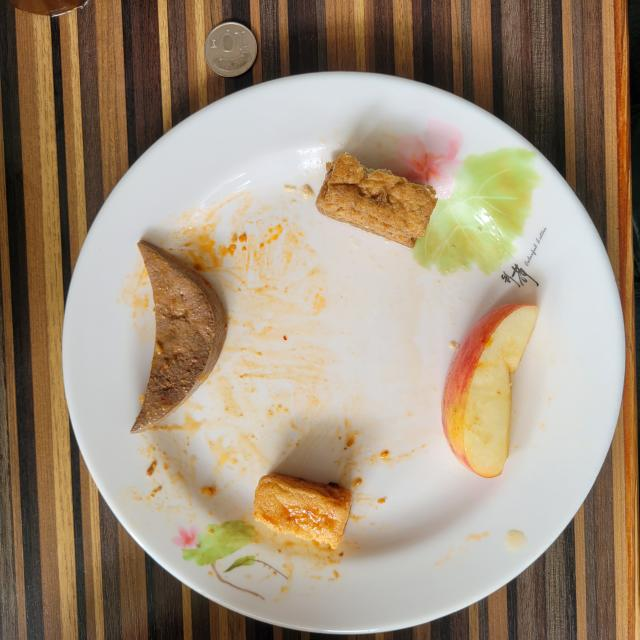apple -sliced-: (442, 304, 539, 478)
coin: (205, 22, 258, 78)
creamy tofu: (254, 474, 351, 549)
egg tofu: (316, 152, 438, 248)
pig liver: (131, 240, 228, 432)
